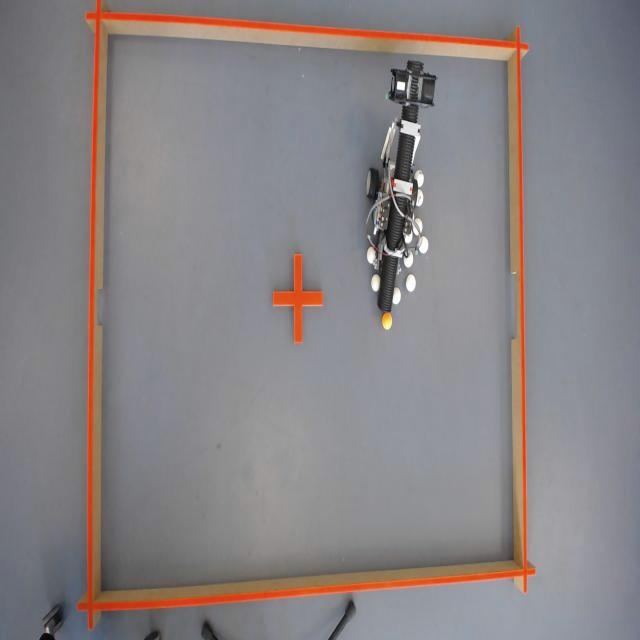orange-golf-balls: (382, 312, 392, 329)
robot: (367, 59, 437, 312)
white-golf-balls: (417, 235, 429, 253), (414, 168, 425, 187), (371, 273, 381, 291), (404, 250, 414, 267), (406, 274, 416, 291), (367, 246, 377, 263), (393, 286, 402, 304), (414, 216, 423, 233), (416, 187, 424, 206), (404, 229, 413, 243)
